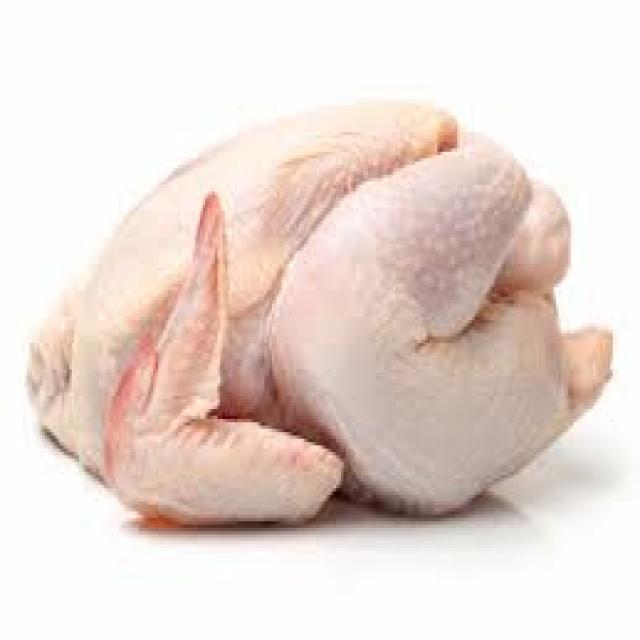chicken: (30, 106, 613, 526)
